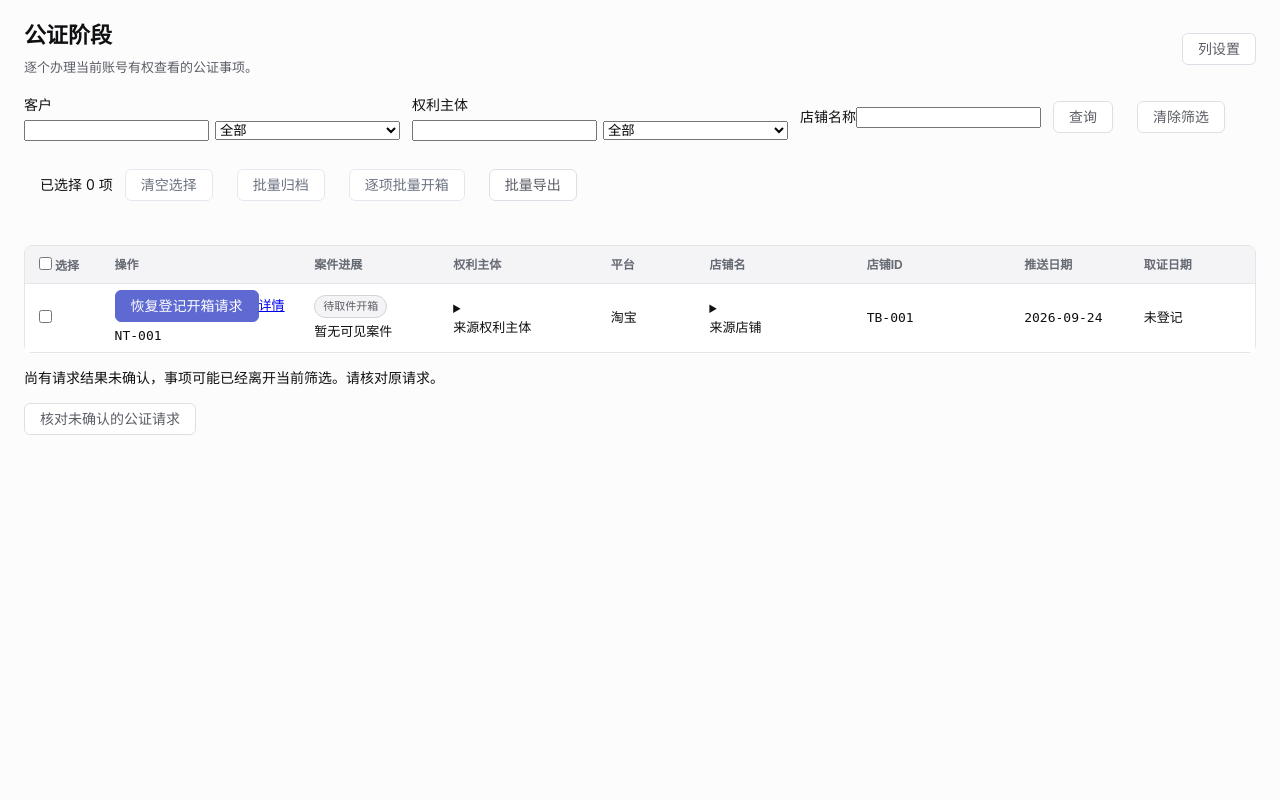
Test: NotaryMatterListPage › shows a recoverable action when the pending request uses the same actor at an older authorization revision
Click the button with test id "notary-resume-request" at coordinates (110, 419), box x1=24 y1=403 x2=196 y2=435
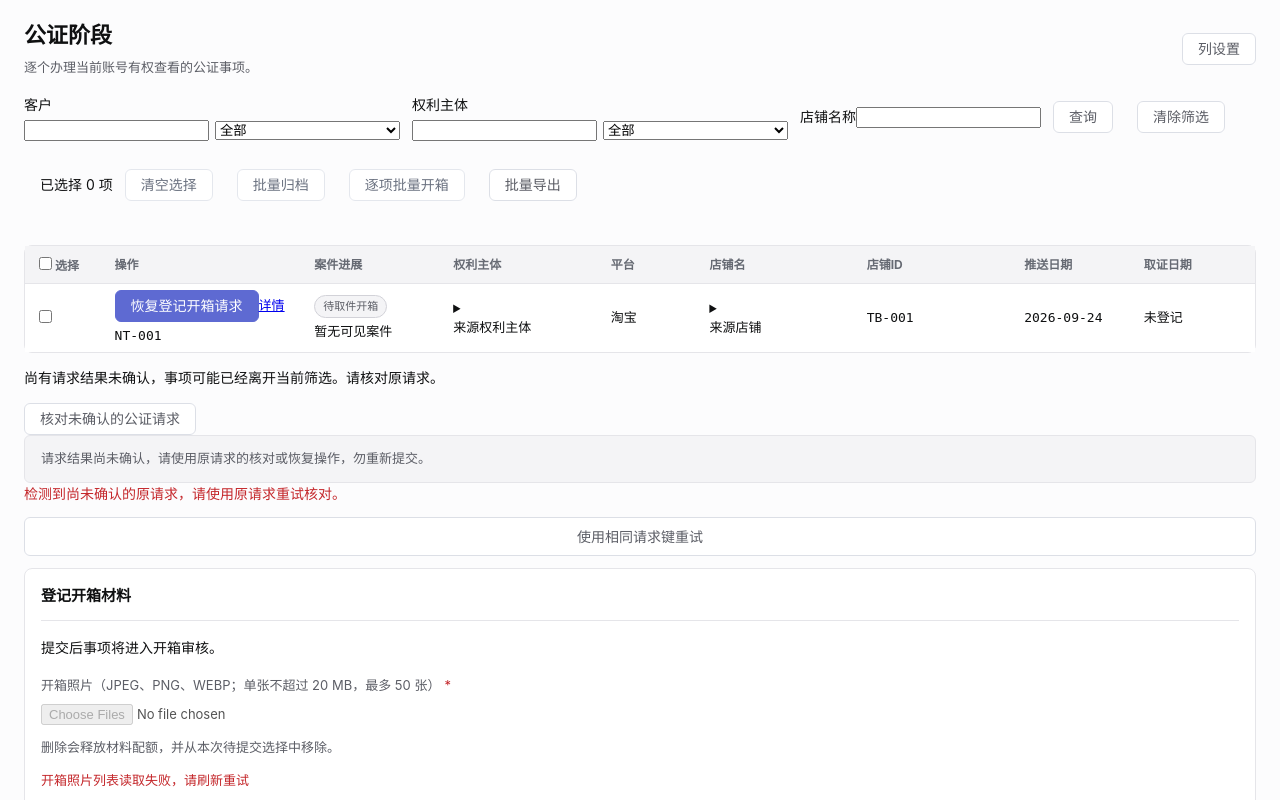
Result: the button with test id "notary-workflow-retry" is shown at x1=24 y1=517 x2=1256 y2=556
